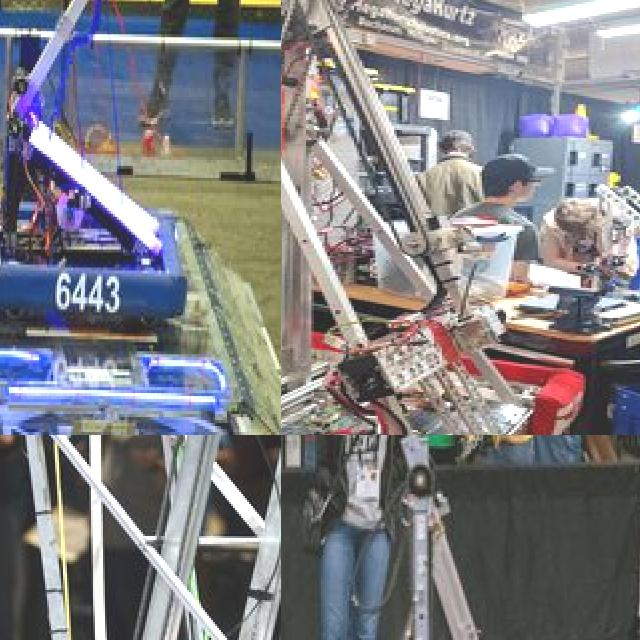FRC-Robots: (281, 0, 640, 435), (0, 0, 281, 435), (281, 435, 640, 640), (0, 435, 281, 640)
